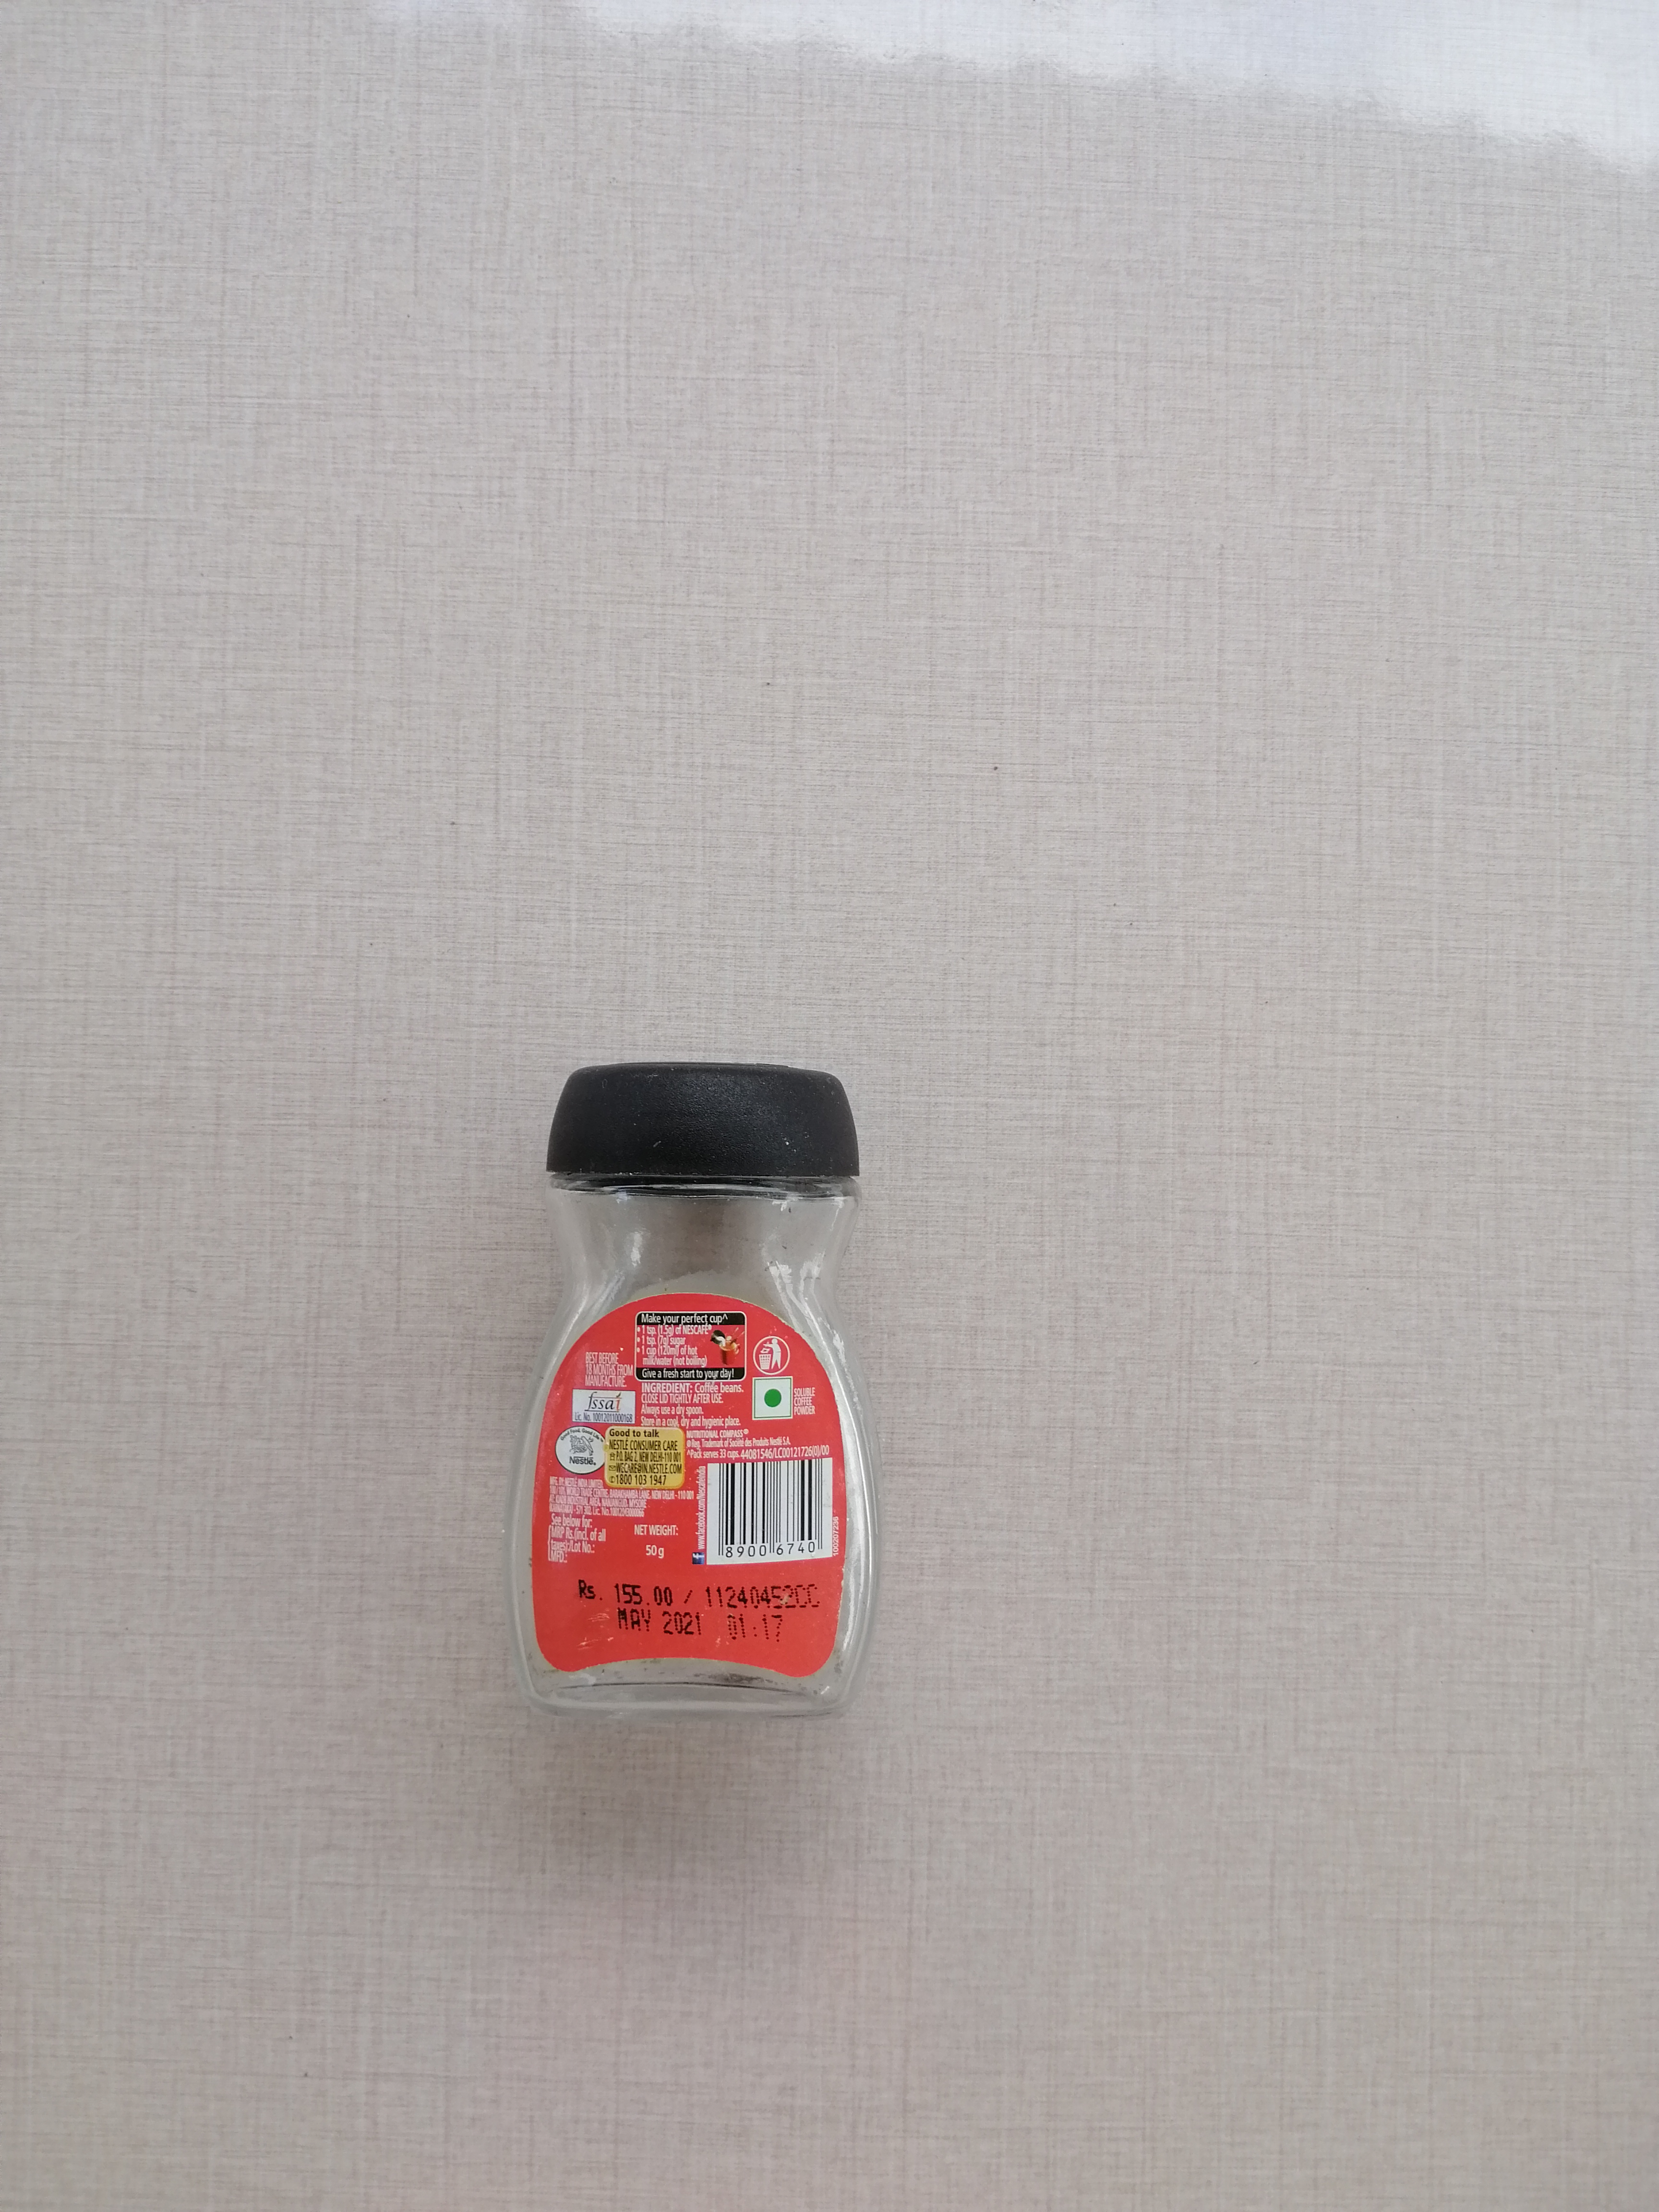nescafe_classic: (509, 1059, 873, 1723)
